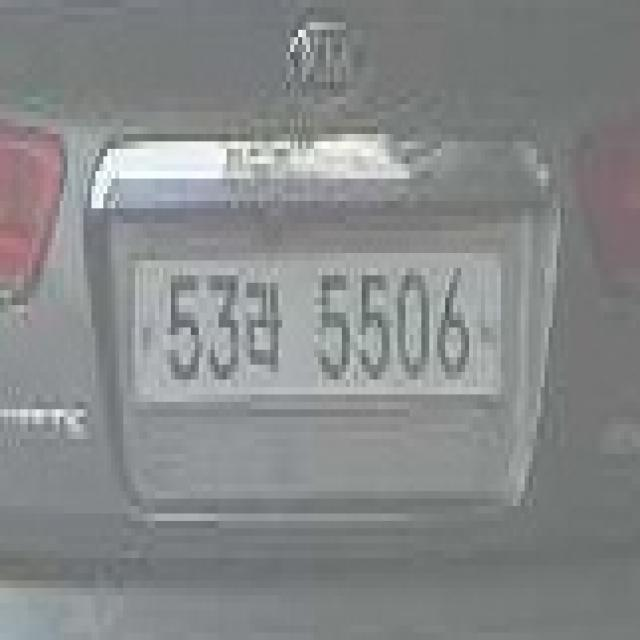0: (396, 264, 432, 386)
3: (206, 262, 245, 390)
5: (166, 265, 205, 388), (358, 264, 392, 401), (318, 262, 351, 394)
6: (436, 269, 482, 381)
la: (247, 268, 289, 388)
license_plate: (122, 230, 520, 420)
